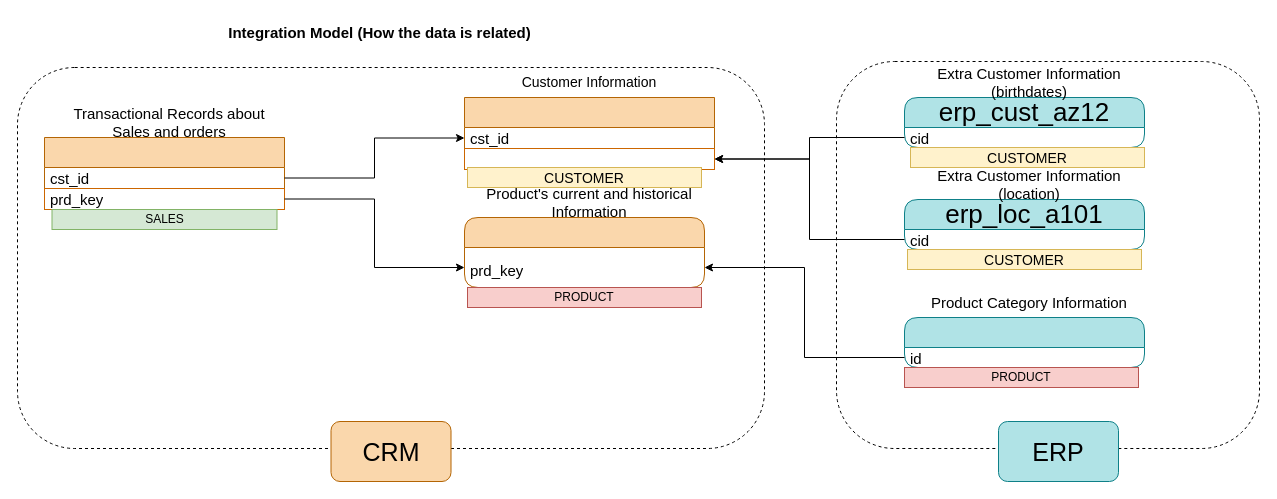
This 1277x499 diagram has some shape labels left out. Here are the shapes that lost their labels. From the top down, the box of each, then its label:
(464, 96, 714, 170): crm_cust_info
(44, 136, 284, 210): crm_sales_details
(464, 148, 714, 170): cst_key
(464, 216, 704, 288): crm_prd_info
(904, 316, 1144, 368): erp_px_cat_g1v2
